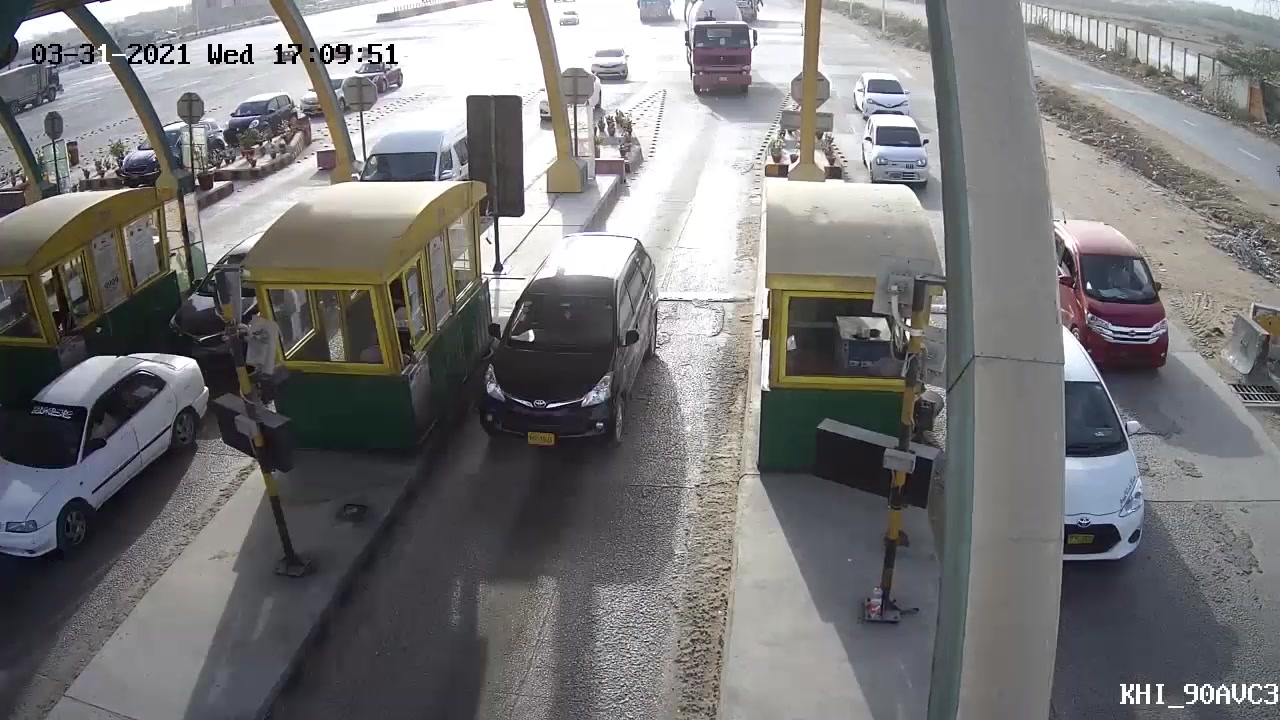F1: (460, 226, 663, 467)
